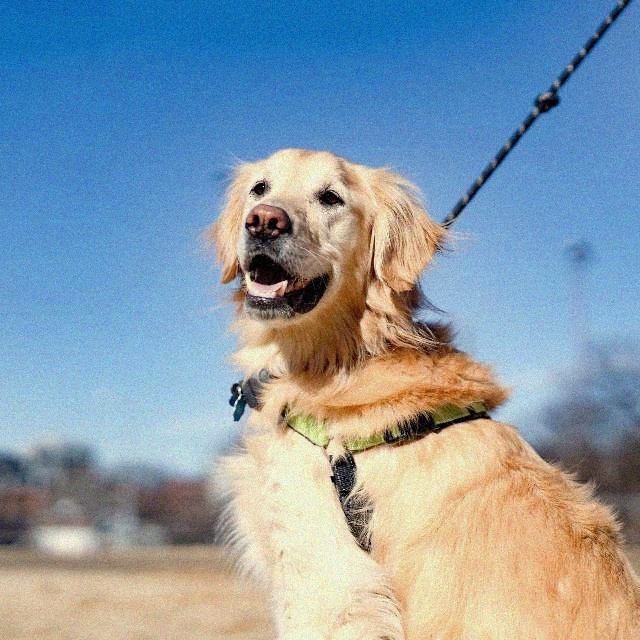dog: (208, 112, 558, 640)
